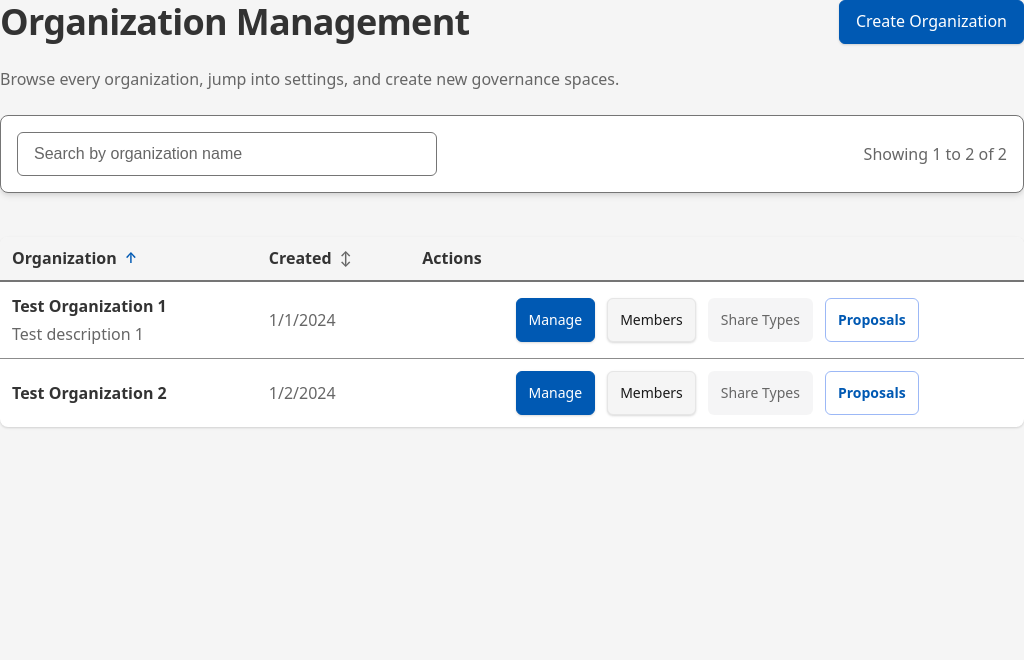
Test: AdminOrganizationsPage › Create Organization › disables form during submission
// Open create form and fill
Click the button "Create Organization" at (931, 22), box [839,0,1023,44]
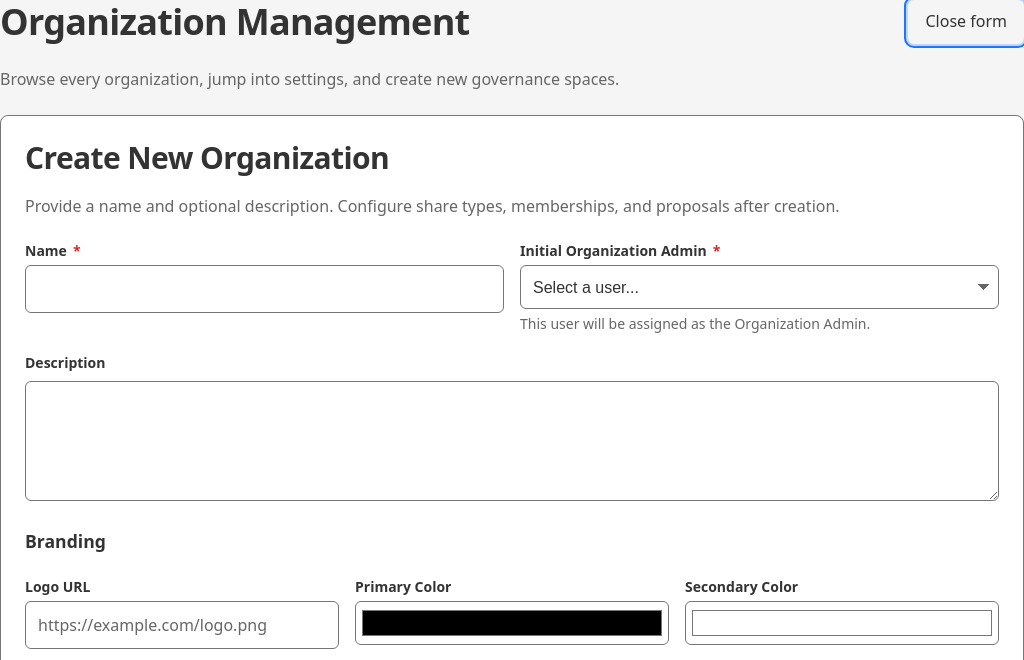
Type "Test Org" into the field labelled "Name *" at (264, 289), box [25,265,504,313]
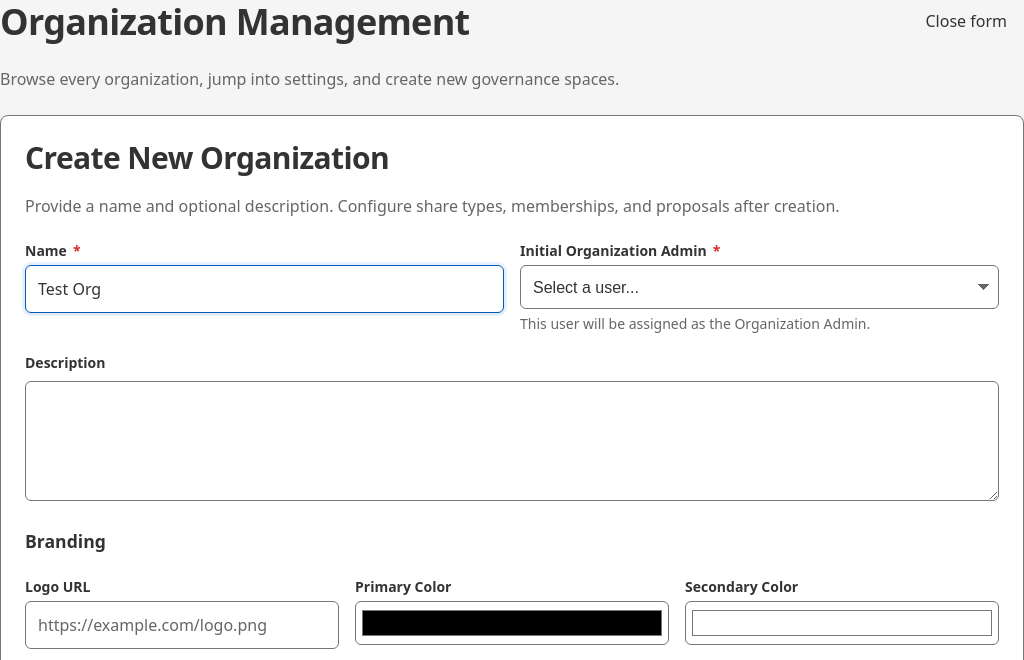
Select "Test User (test@example.com)" in the dropdown labelled "Initial Organization Admin *" at (760, 287), box [520,265,999,309]
(page scrolled)
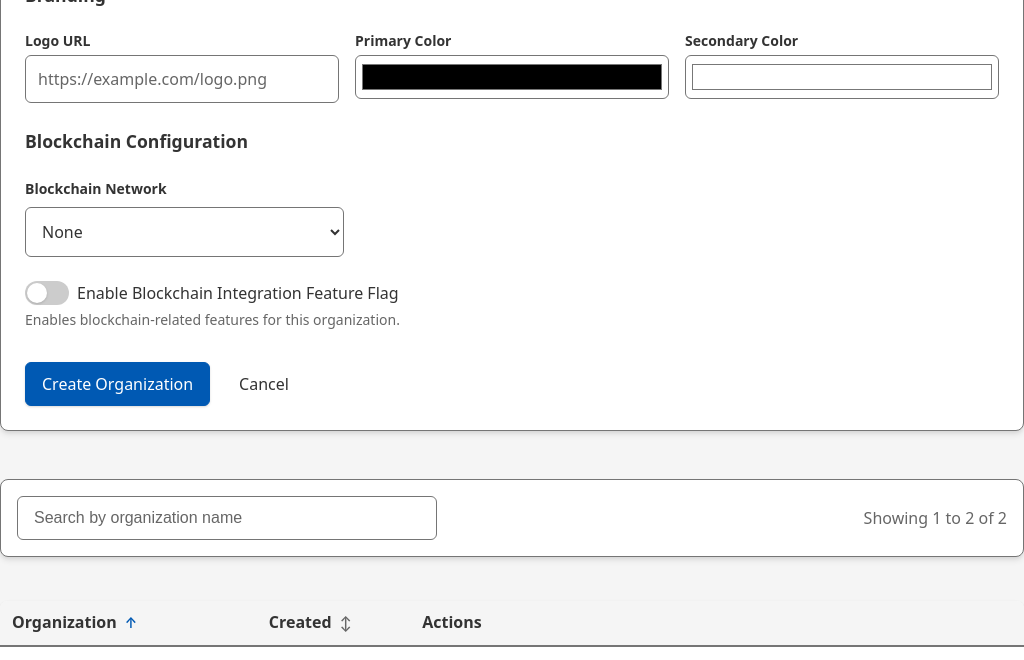
// Submit form
Click the button "Create Organization" at (118, 384), box [25,362,210,406]
(page scrolled)
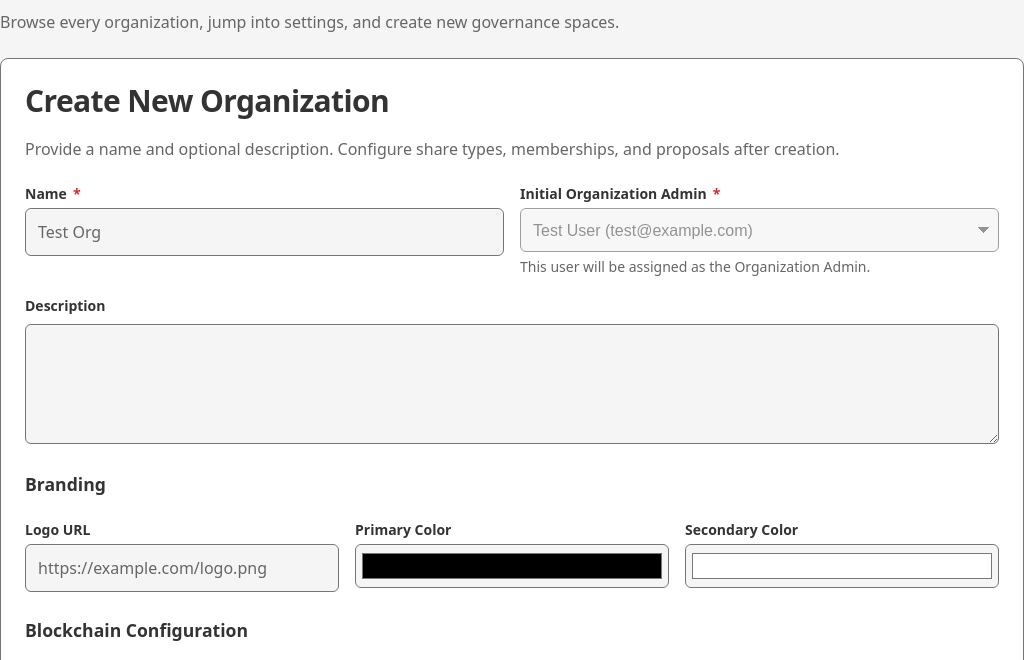
Result: the field labelled "Name *" is disabled at [25,208,504,256]
Result: the text box labelled "Description" is disabled at [25,324,999,444]
